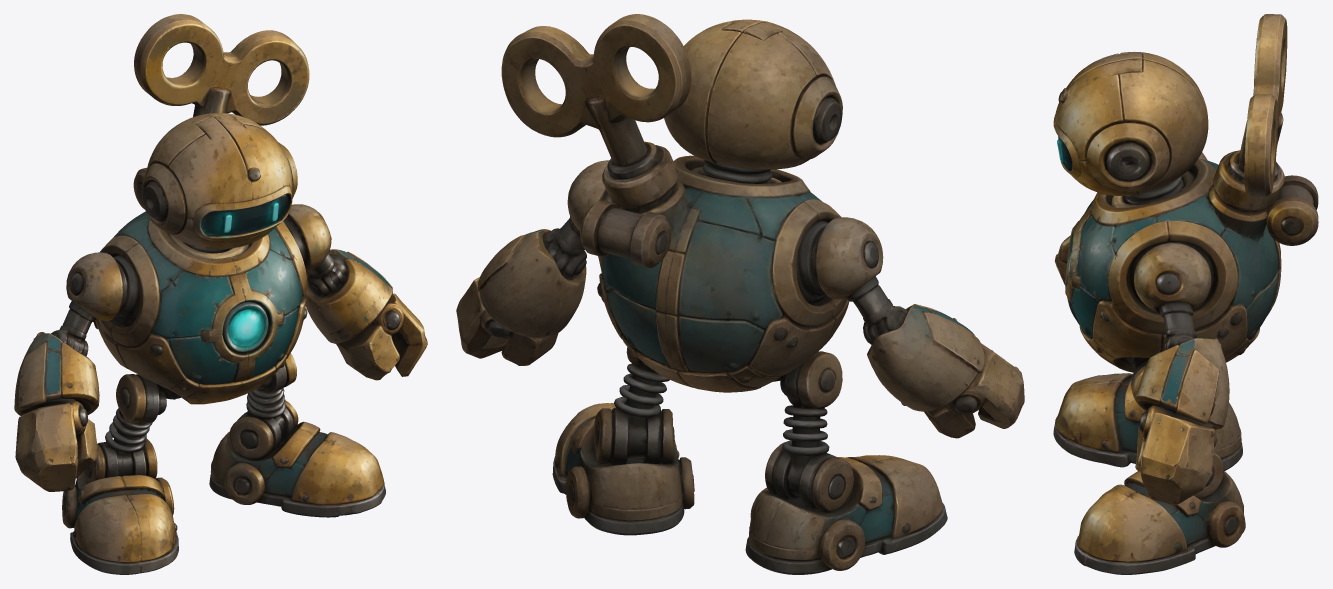
File: automaton_tripo_h31_raw.glb
3 renders of one model, left to right at view 1: azimuth 30°, elevation 25°; view 2: azimuth 150°, elevation 25°; view 3: azimuth 270°, elevation 25°, orthographic. The views are drawn at different scales.
Parts seen in each view (by area): view 1: tripo_node_e224a916-24c0-4ec0-a3b0-03bf7a02be9f; view 2: tripo_node_e224a916-24c0-4ec0-a3b0-03bf7a02be9f; view 3: tripo_node_e224a916-24c0-4ec0-a3b0-03bf7a02be9f.
Boxes of the visible parts, x1,y1,x2,y2 form: tripo_node_e224a916-24c0-4ec0-a3b0-03bf7a02be9f: (14, 14, 427, 574); tripo_node_e224a916-24c0-4ec0-a3b0-03bf7a02be9f: (456, 14, 1024, 574); tripo_node_e224a916-24c0-4ec0-a3b0-03bf7a02be9f: (1053, 14, 1318, 574).
Size of the model in its own units: 1 by 0.9911 by 0.4875.
Materials: 1 (1 with a texture image).
